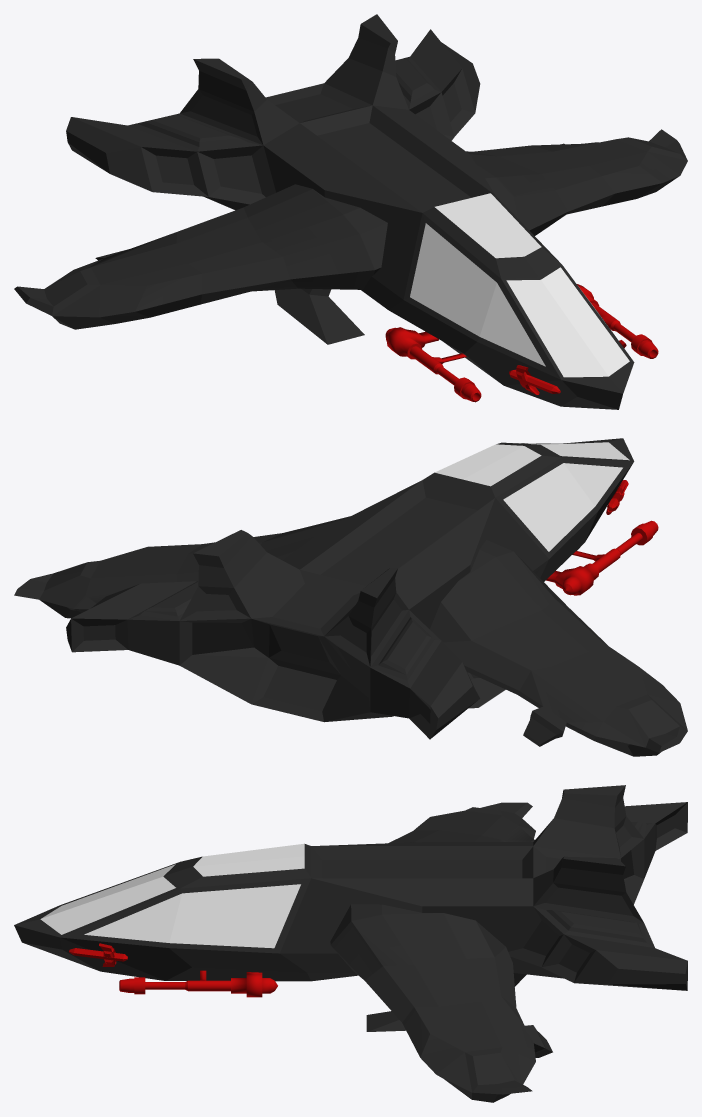
3 views of the same model, one above another, from view 1: azimuth 30°, elevation 25°; view 2: azimuth 150°, elevation 25°; view 3: azimuth 270°, elevation 25° (orthographic). The views are drawn at different scales.
Visible parts, largest first — view 1: Box002, Box002.004, Tube031, ChamferCyl001.001; view 2: Box002, Box002.004, Tube031; view 3: Box002, Box002.004, Tube031, ChamferCyl001.001.
Part boxes in pixels (bbox=[...]): Box002: bbox=[14, 14, 687, 409]; Box002.004: bbox=[410, 193, 629, 377]; Tube031: bbox=[385, 284, 658, 402]; ChamferCyl001.001: bbox=[509, 340, 626, 394]; Box002: bbox=[14, 438, 687, 756]; Box002.004: bbox=[435, 442, 629, 551]; Tube031: bbox=[546, 520, 658, 595]; Box002: bbox=[14, 785, 687, 1102]; Box002.004: bbox=[40, 843, 304, 948]; Tube031: bbox=[119, 970, 277, 997]; ChamferCyl001.001: bbox=[69, 943, 127, 966].
Size of the model in its own units: 19.83 by 5.24 by 19.56.
